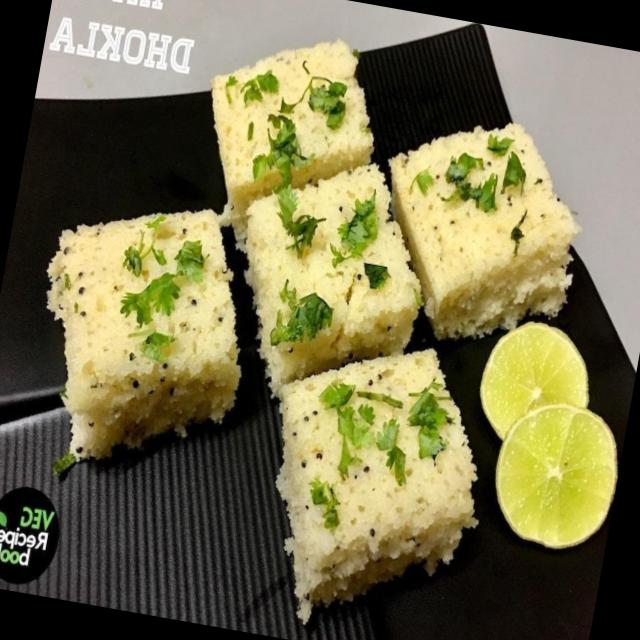dhokla: (0, 0, 539, 619), (388, 96, 614, 354)
